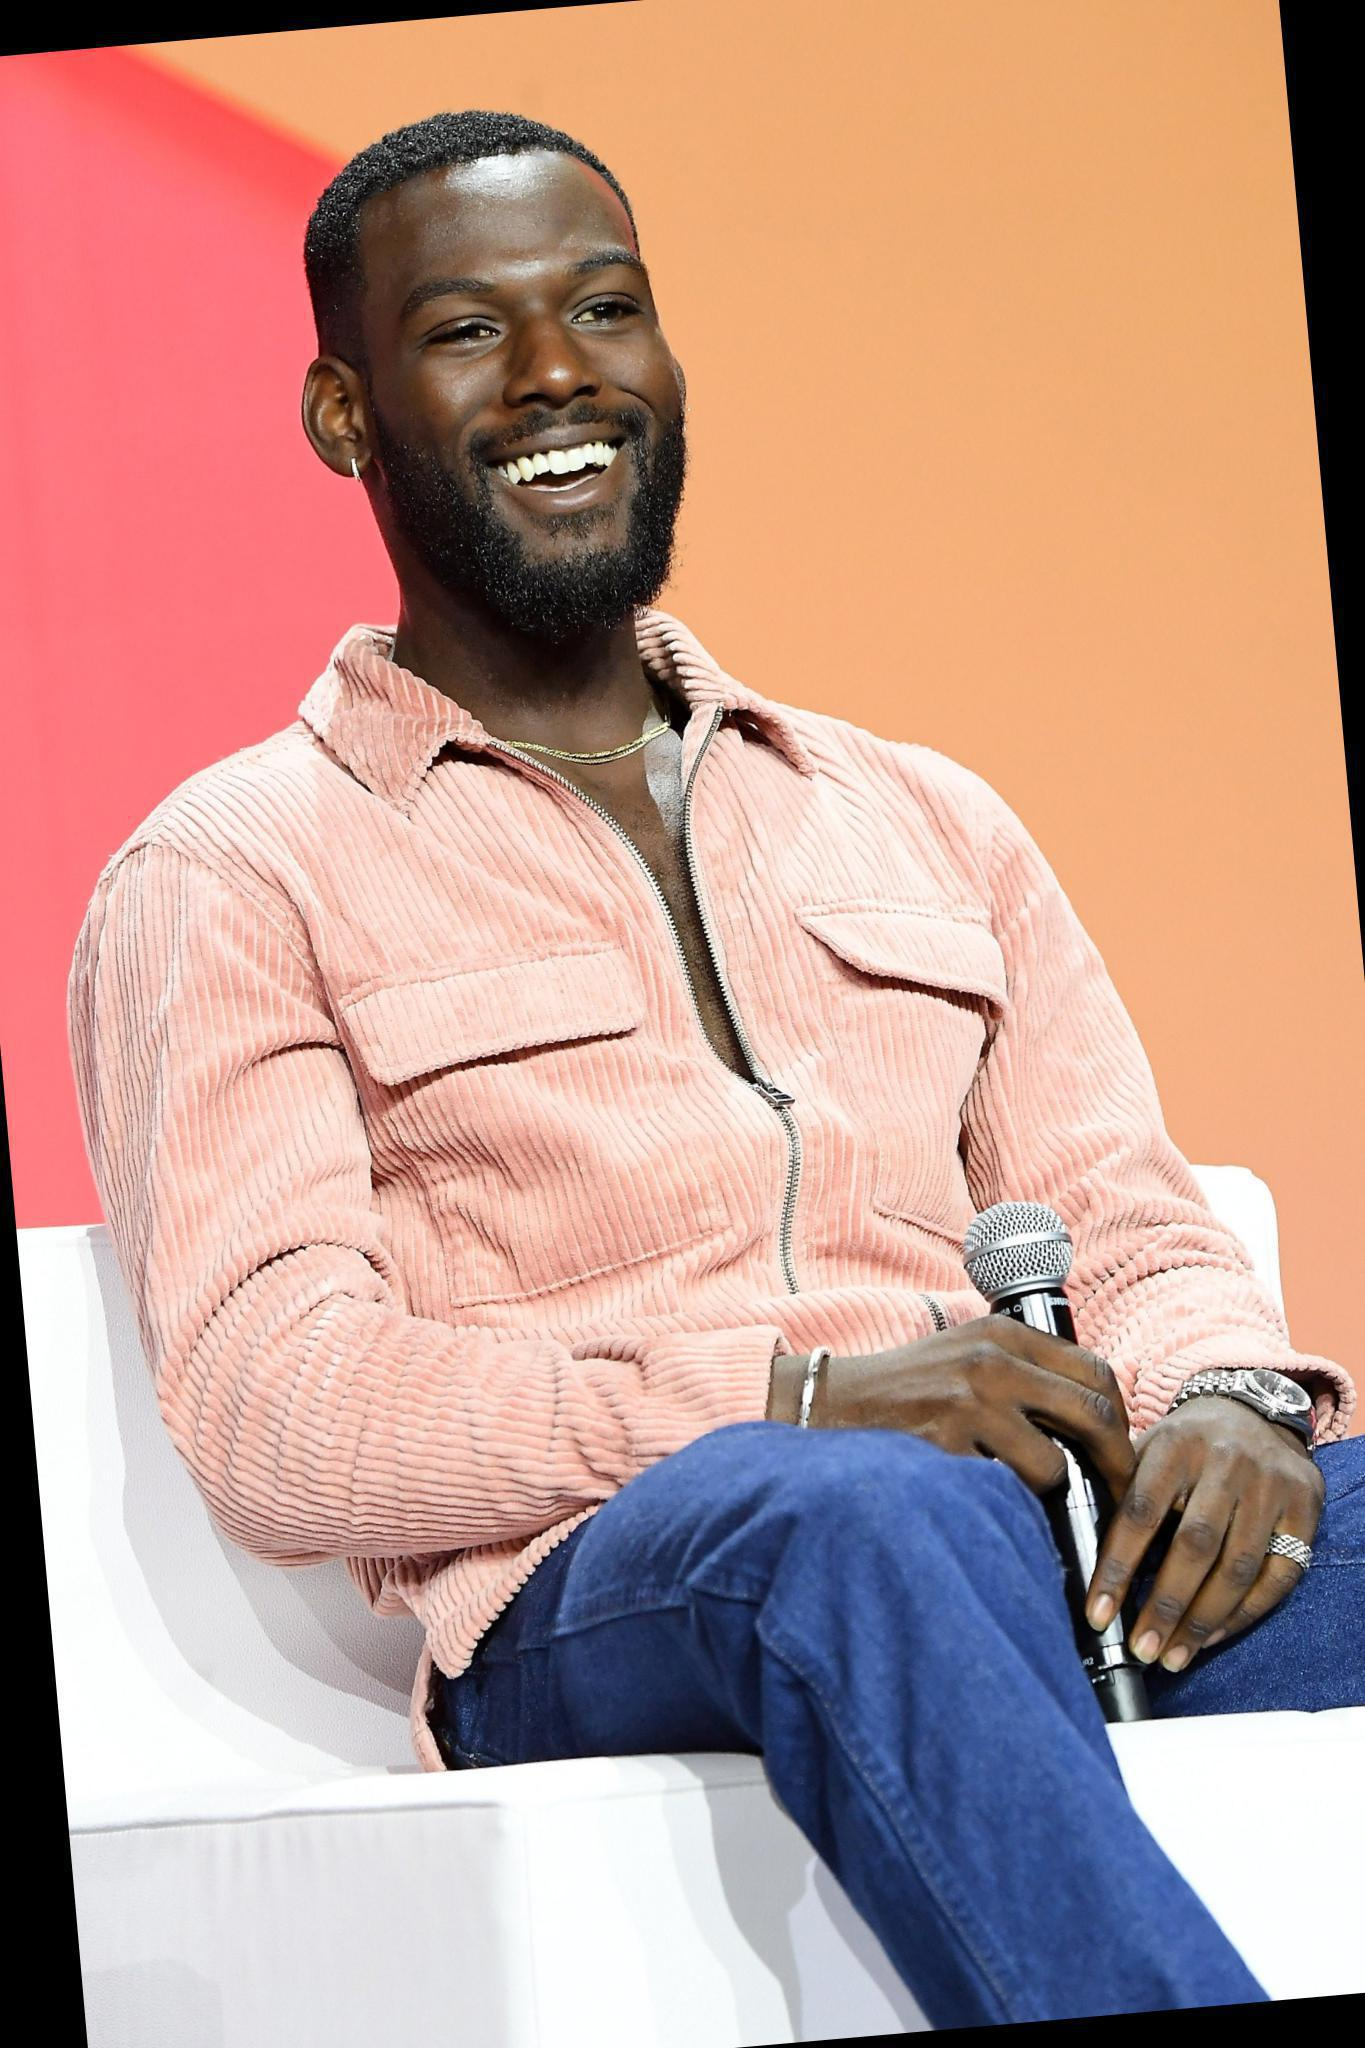Sober: (337, 136, 679, 629)
